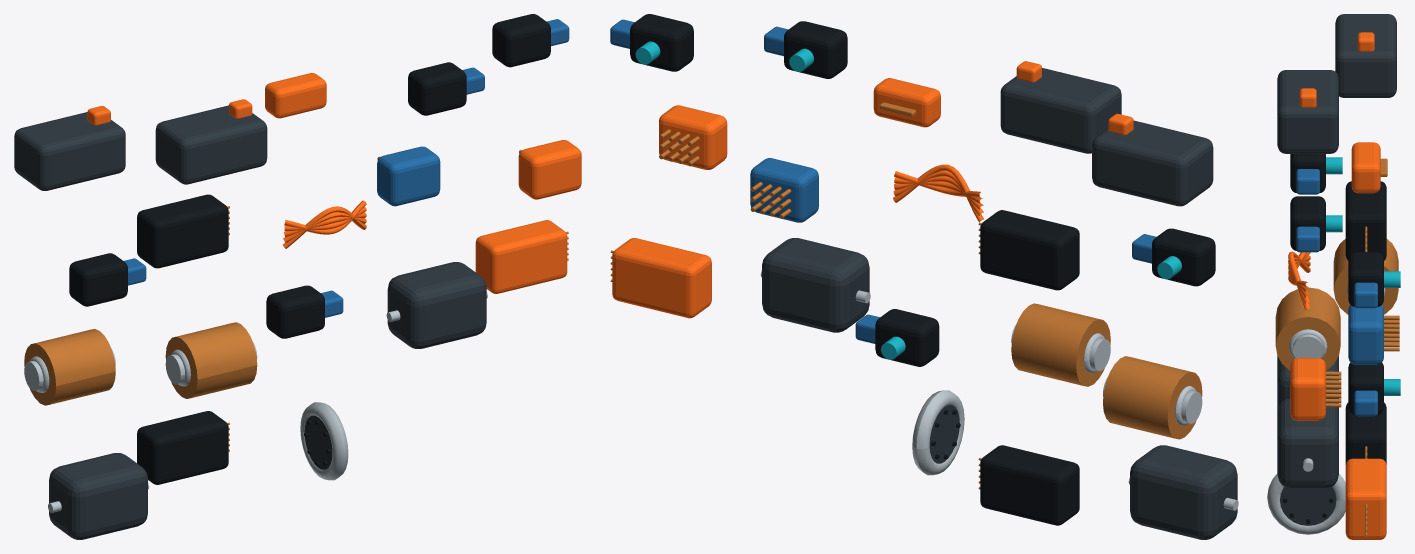
Rendered from generic_hybrid_ev.glb.
3 views of the same model, side by side, from view 1: azimuth 30°, elevation 25°; view 2: azimuth 150°, elevation 25°; view 3: azimuth 270°, elevation 25° (orthographic). The views are drawn at different scales.
Visible parts, largest first — view 1: system_mesh__reduction_gear__case, system_mesh__e_axle__case, system_mesh__battery_modules__pack_case, system_mesh__hv_battery__pack_case, system_mesh__hv_junction_box__housing, system_mesh__traction_inverters__housing, system_mesh__hybrid_control_module__housing, system_mesh__rear_traction_motor__stator, system_mesh__front_traction_motor__stator, system_mesh__charge_port__shell, system_mesh__hv_connectors__shell, system_mesh__current_sensors__sealed_body (+6 smaller); view 2: system_mesh__e_axle__case, system_mesh__reduction_gear__case, system_mesh__hv_battery__pack_case, system_mesh__battery_modules__pack_case, system_mesh__hv_junction_box__housing, system_mesh__hybrid_control_module__housing, system_mesh__traction_inverters__housing, system_mesh__rear_traction_motor__stator, system_mesh__front_traction_motor__stator, system_mesh__hv_connectors__shell, system_mesh__charge_port__shell, system_mesh__rotor_position_sensor__sealed_body (+6 smaller); view 3: system_mesh__battery_modules__pack_case, system_mesh__hv_battery__pack_case, system_mesh__reduction_gear__case, system_mesh__rear_traction_motor__stator, system_mesh__traction_inverters__housing, system_mesh__hv_junction_box__housing, system_mesh__charge_port__shell, system_mesh__hv_connectors__shell, system_mesh__hybrid_control_module__housing, system_mesh__regenerative_brake__hub, system_mesh__front_traction_motor__stator, system_mesh__regenerative_brake__friction_ring (+19 smaller).
Part boxes in pixels (box(x1,y1,x2,y2)): system_mesh__reduction_gear__case: box(387, 262, 486, 348); system_mesh__e_axle__case: box(49, 453, 147, 539); system_mesh__battery_modules__pack_case: box(155, 105, 267, 184); system_mesh__hv_battery__pack_case: box(14, 112, 125, 190); system_mesh__hv_junction_box__housing: box(137, 194, 228, 268); system_mesh__traction_inverters__housing: box(475, 220, 567, 293); system_mesh__hybrid_control_module__housing: box(137, 411, 228, 484); system_mesh__rear_traction_motor__stator: box(165, 322, 257, 398); system_mesh__front_traction_motor__stator: box(24, 329, 115, 405); system_mesh__charge_port__shell: box(518, 140, 581, 199); system_mesh__hv_connectors__shell: box(377, 146, 440, 206); system_mesh__current_sensors__sealed_body: box(69, 253, 127, 306); system_mesh__e_axle__case: box(1130, 445, 1237, 539); system_mesh__reduction_gear__case: box(762, 238, 869, 332); system_mesh__hv_battery__pack_case: box(1092, 120, 1213, 206); system_mesh__battery_modules__pack_case: box(1000, 68, 1121, 153); system_mesh__hv_junction_box__housing: box(980, 210, 1079, 290); system_mesh__hybrid_control_module__housing: box(980, 445, 1079, 525); system_mesh__traction_inverters__housing: box(612, 238, 711, 318); system_mesh__rear_traction_motor__stator: box(1011, 303, 1110, 386); system_mesh__front_traction_motor__stator: box(1103, 356, 1202, 439); system_mesh__hv_connectors__shell: box(750, 158, 818, 222); system_mesh__charge_port__shell: box(659, 105, 727, 169); system_mesh__rotor_position_sensor__sealed_body: box(875, 309, 939, 366); system_mesh__battery_modules__pack_case: box(1277, 70, 1338, 153); system_mesh__hv_battery__pack_case: box(1335, 14, 1396, 97); system_mesh__reduction_gear__case: box(1277, 398, 1338, 488); system_mesh__rear_traction_motor__stator: box(1275, 287, 1340, 370); system_mesh__traction_inverters__housing: box(1345, 458, 1386, 539); system_mesh__hv_junction_box__housing: box(1345, 181, 1386, 260); system_mesh__charge_port__shell: box(1290, 358, 1325, 420); system_mesh__hv_connectors__shell: box(1348, 305, 1383, 364); system_mesh__hybrid_control_module__housing: box(1345, 402, 1386, 464); system_mesh__regenerative_brake__hub: box(1280, 486, 1336, 525); system_mesh__front_traction_motor__stator: box(1333, 239, 1398, 314); system_mesh__regenerative_brake__friction_ring: box(1267, 473, 1345, 534).
Size of the model in its own units: 7.5 by 5.19 by 1.56.
